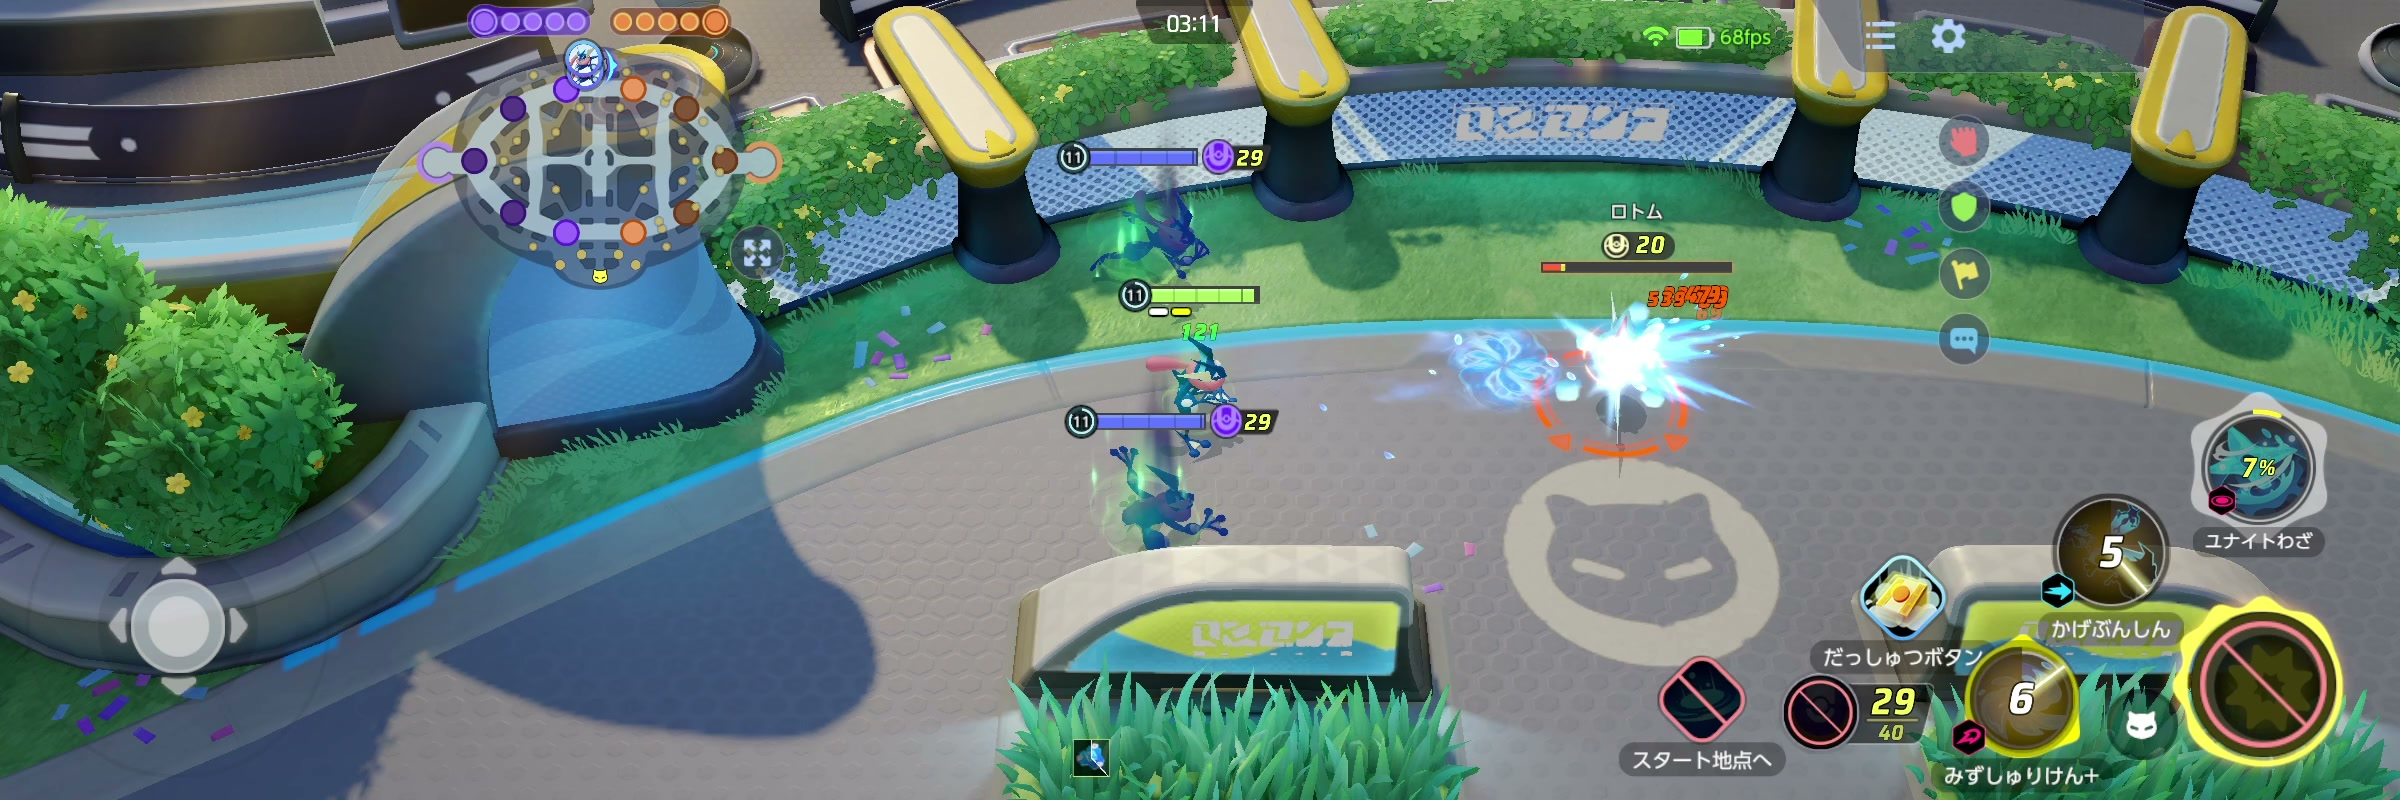greninja: (1113, 320, 1275, 448)
